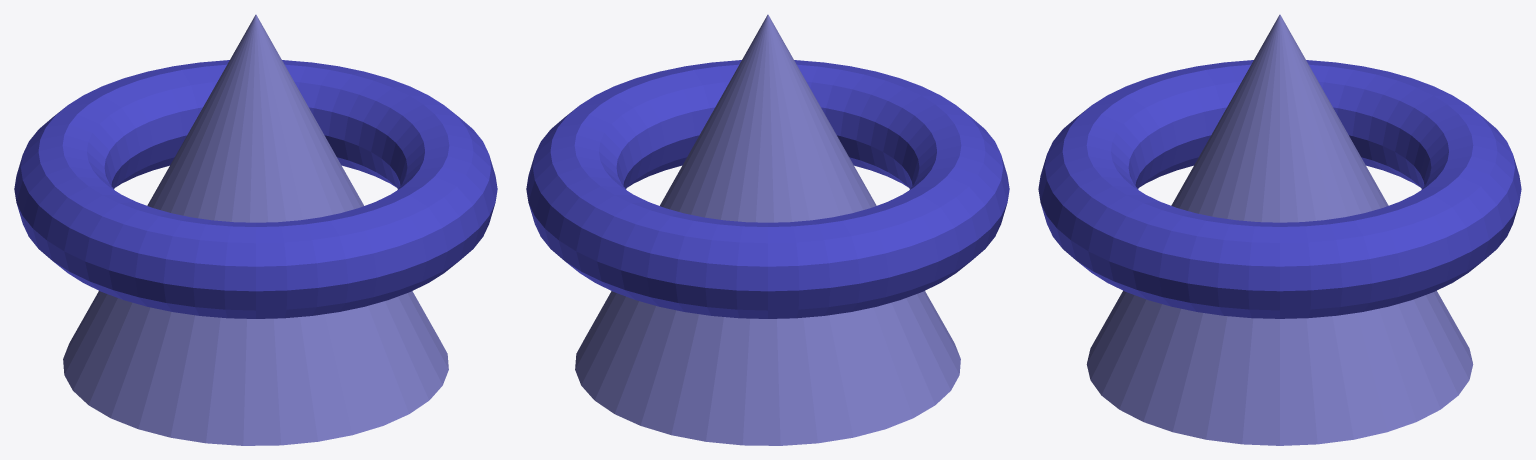
File: cone_ring.obj
The picture shows the model from 3 angles, left to right: view 1: azimuth 30°, elevation 25°; view 2: azimuth 150°, elevation 25°; view 3: azimuth 270°, elevation 25°; orthographic projection.
Visible parts, largest first — view 1: Torus, Cone; view 2: Torus, Cone; view 3: Torus, Cone.
Part boxes in pixels (left/top/right/bottom): Torus: left=14, top=60, right=497, bottom=318; Cone: left=63, top=14, right=448, bottom=445; Torus: left=526, top=60, right=1009, bottom=318; Cone: left=575, top=14, right=960, bottom=445; Torus: left=1038, top=60, right=1521, bottom=318; Cone: left=1086, top=14, right=1473, bottom=445.
Size of the model in its own units: 2.5 by 2 by 2.5.
